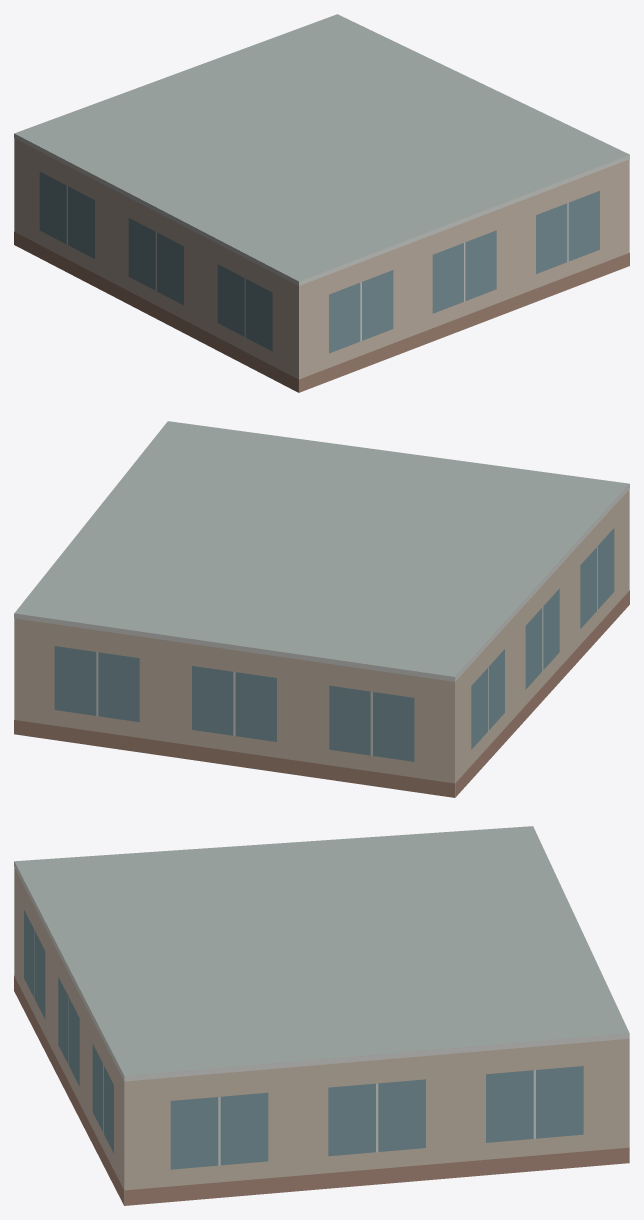
File: survey-upis-32606826.glb
The picture shows the model from 3 angles, top to bottom: view 1: azimuth 30°, elevation 25°; view 2: azimuth 150°, elevation 25°; view 3: azimuth 270°, elevation 25°; orthographic projection. The views are drawn at different scales.
Visible parts, largest first — view 1: survey-upis-32606826.tmp; view 2: survey-upis-32606826.tmp; view 3: survey-upis-32606826.tmp.
Part boxes in pixels (x1=…): survey-upis-32606826.tmp: x1=14, y1=14, x2=629, y2=392; survey-upis-32606826.tmp: x1=14, y1=421, x2=629, y2=797; survey-upis-32606826.tmp: x1=14, y1=826, x2=629, y2=1205.
Size of the model in its own units: 12.63 by 3.05 by 13.13.
